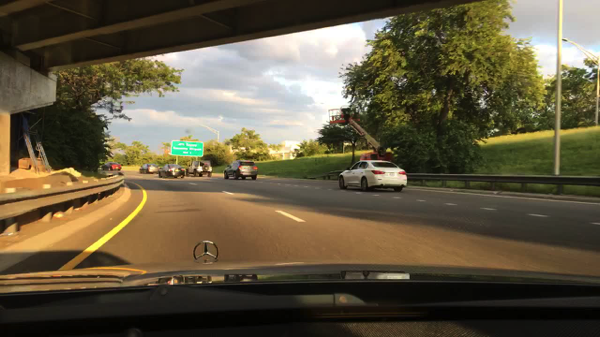car: (328, 106, 395, 162), (337, 161, 407, 191), (222, 159, 260, 180), (186, 160, 213, 176), (157, 164, 185, 178), (137, 163, 158, 173), (100, 162, 122, 171)
traffic sign: (170, 140, 204, 156)
